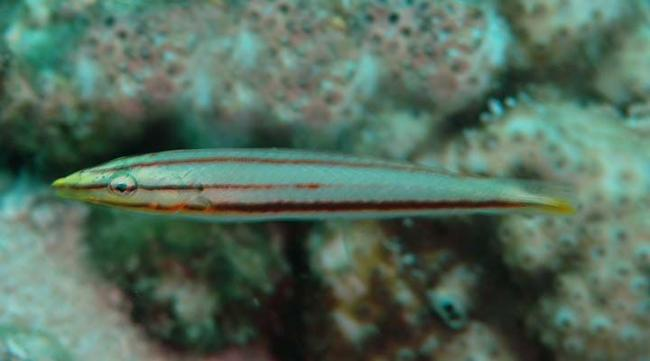fish: (51, 147, 577, 223)
